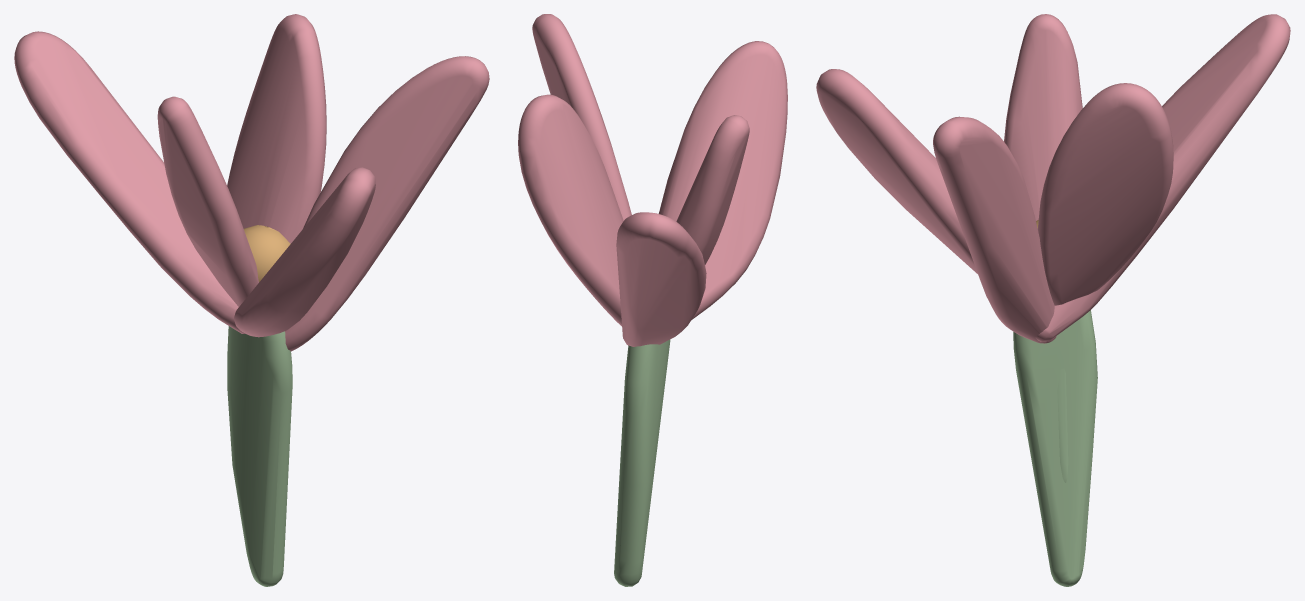
Rendered from flower2.fbx.
The picture shows the model from 3 angles, left to right: view 1: azimuth 30°, elevation 25°; view 2: azimuth 150°, elevation 25°; view 3: azimuth 270°, elevation 25°; orthographic projection. The views are drawn at different scales.
Parts seen in each view (by area): view 1: flower2; view 2: flower2; view 3: flower2.
Part boxes in pixels (box(x1,y1,x2,y2)): flower2: box(14, 14, 489, 586); flower2: box(518, 14, 787, 586); flower2: box(816, 14, 1290, 586).
Size of the model in its own units: 28.91 by 47.03 by 37.83.
